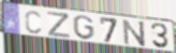3: (149, 23, 170, 50)
7: (100, 16, 119, 44)
C: (24, 9, 42, 35)
G: (72, 15, 97, 41)
N: (122, 19, 147, 47)
Z: (46, 11, 72, 40)
